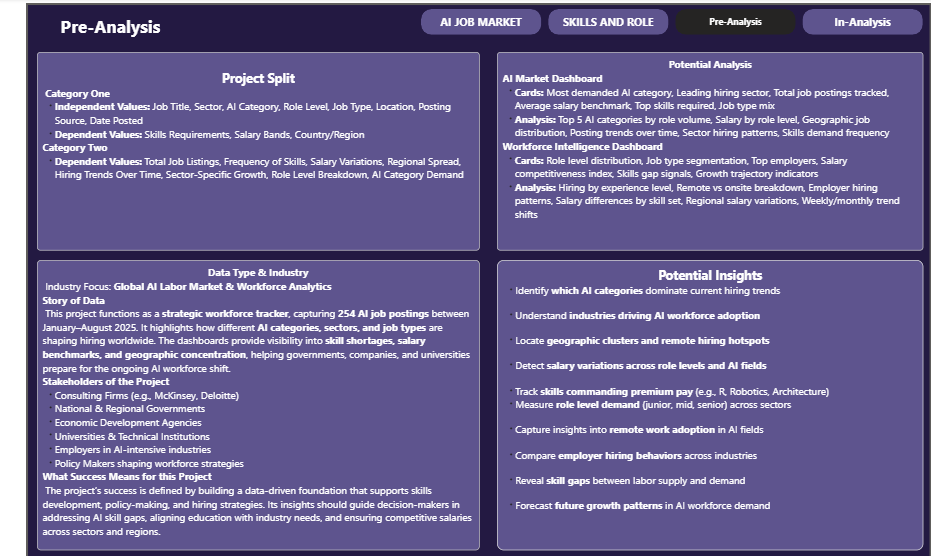

The page's visual inventory and layout, read from the dashboard file:
{"tool":"powerbi","page":{"name":"Pre-Analysis","canvas":[1400,850],"ordinal":2},"visuals":[{"type":"actionButton","box":[68.3,30.2,1331.7,820.6],"z":0},{"type":"shape","box":[68.8,25,245.3,78.1],"z":1000},{"type":"textbox","box":[84.1,103.2,650.8,292.1],"z":2000},{"type":"textbox","box":[760.3,103.2,627,292.1],"z":3000},{"type":"textbox","box":[84.1,409.5,650.8,427],"z":4000},{"type":"textbox","box":[760.3,409.5,627,427],"z":5000},{"type":"pageNavigator","box":[649.2,39.7,738.1,38.1],"z":6000}]}

Visuals, with their boxes in screenshot pixels (x1, y1, x2, y2), scaled from the page's 1400x850 canvas onto the 931x556 screenshot:
actionButton: bbox=[45, 20, 930, 555]
shape: bbox=[46, 16, 209, 67]
textbox: bbox=[56, 68, 489, 259]
textbox: bbox=[506, 68, 923, 259]
textbox: bbox=[56, 268, 489, 547]
textbox: bbox=[506, 268, 923, 547]
pageNavigator: bbox=[432, 26, 923, 51]
